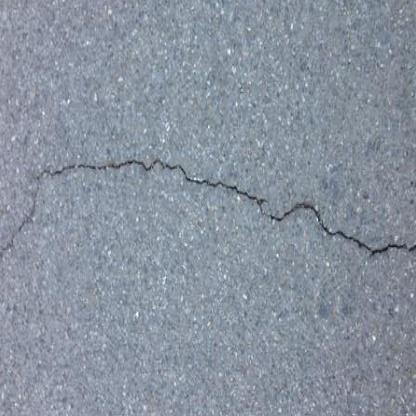Cracks: (0, 152, 416, 267)
